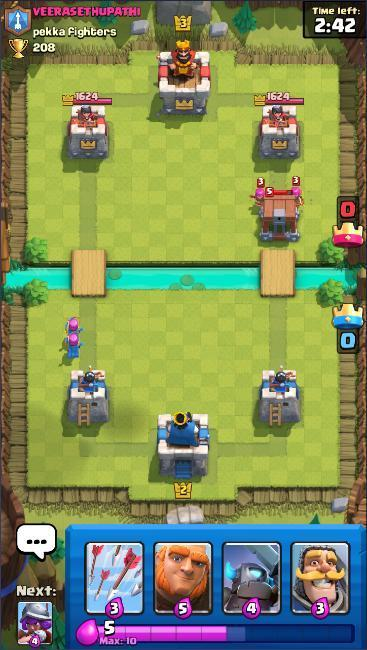ally_archer: (61, 329, 85, 359), (63, 314, 85, 344)
enemy_archer: (248, 176, 269, 210), (288, 175, 307, 210)
enemy_goblin_cage: (258, 186, 302, 245)
